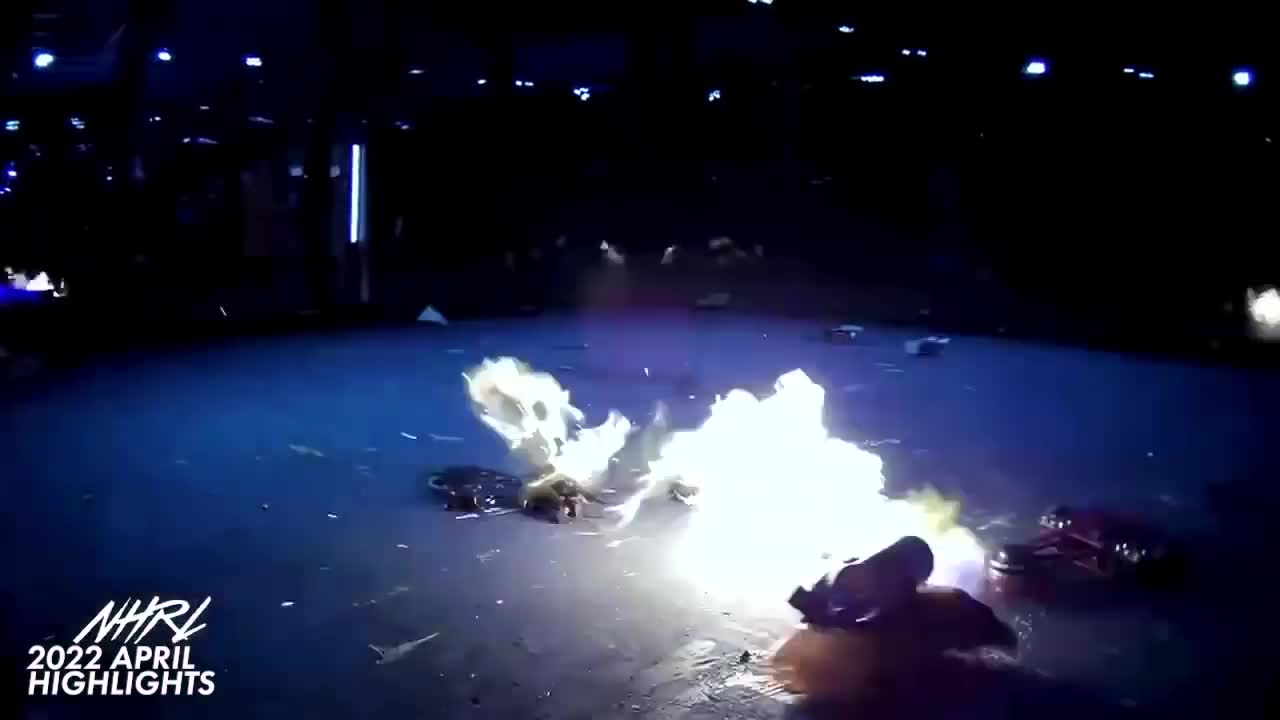combatbot: (983, 502, 1180, 606), (787, 531, 936, 630), (515, 469, 607, 526), (426, 465, 525, 517), (905, 333, 947, 357), (828, 324, 862, 343)
